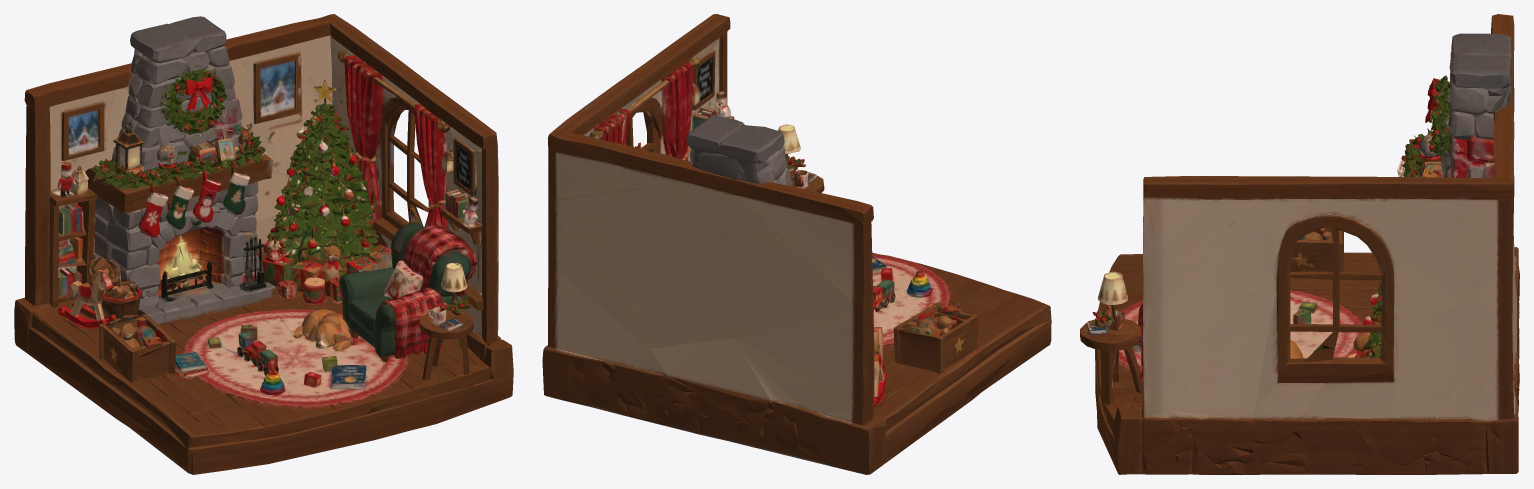
The model's file is room.glb.
The picture shows the model from 3 angles, left to right: view 1: azimuth 30°, elevation 25°; view 2: azimuth 150°, elevation 25°; view 3: azimuth 270°, elevation 25°; orthographic projection. The views are drawn at different scales.
Visible parts, largest first — view 1: output_unwrapped; view 2: output_unwrapped; view 3: output_unwrapped.
Part boxes in pixels (x1=…): output_unwrapped: x1=14, y1=14, x2=513, y2=474; output_unwrapped: x1=542, y1=14, x2=1051, y2=474; output_unwrapped: x1=1080, y1=14, x2=1519, y2=474.
Bounding box in the file's own units: 1.84 × 1.57 × 1.9.
1 material, 1 textured.
